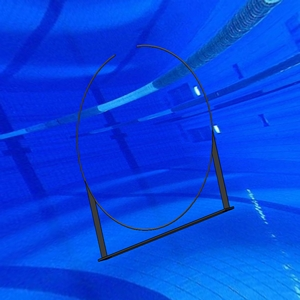circle: (75, 43, 235, 262)
